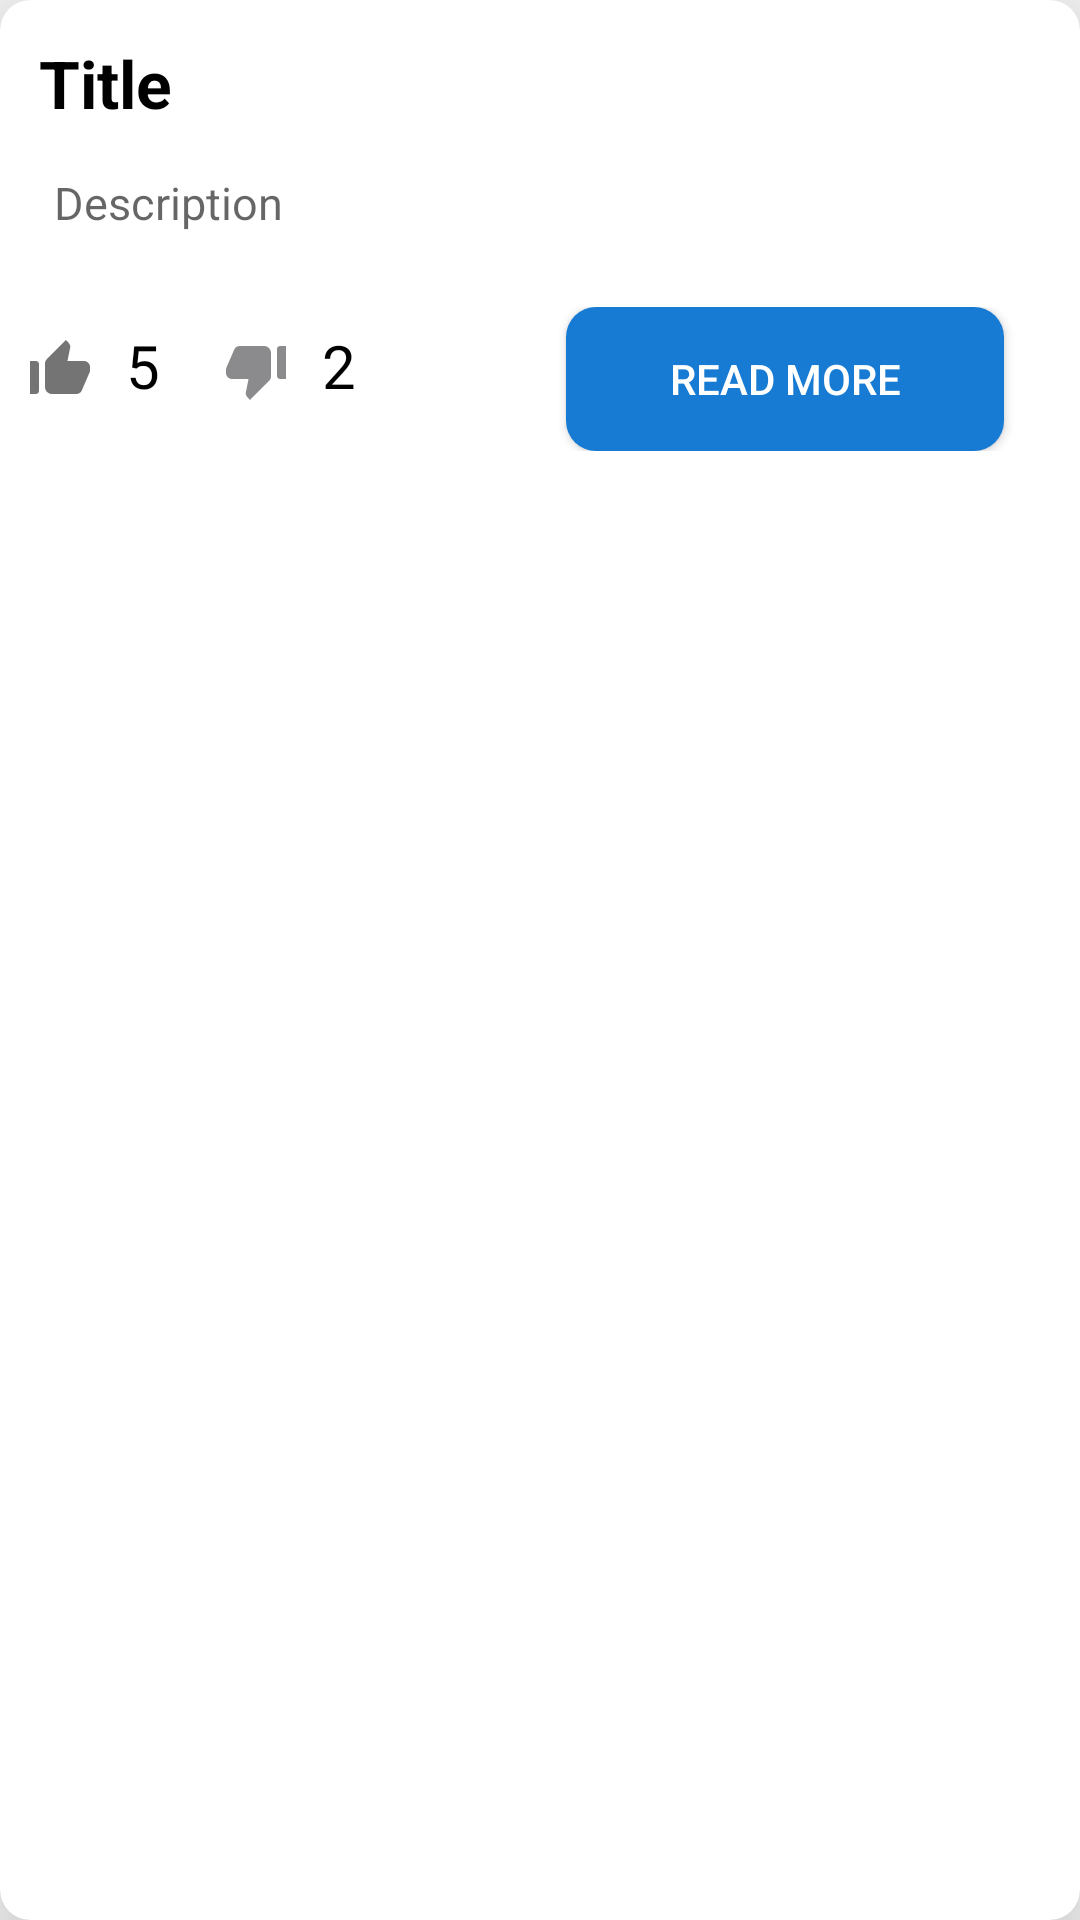

Locate icon controls on the screen. Image size 1080x1920, boxes as (x1, y1, x2, y2).
checkstate thumbdown: (226, 346, 286, 400)
checkstatus thumbup: (30, 340, 90, 394)
